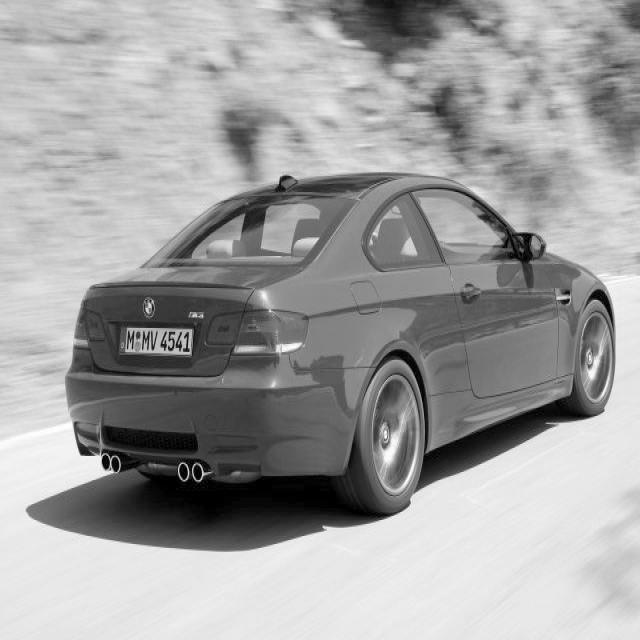car: (64, 169, 616, 516)
plat_license: (117, 324, 194, 357)
